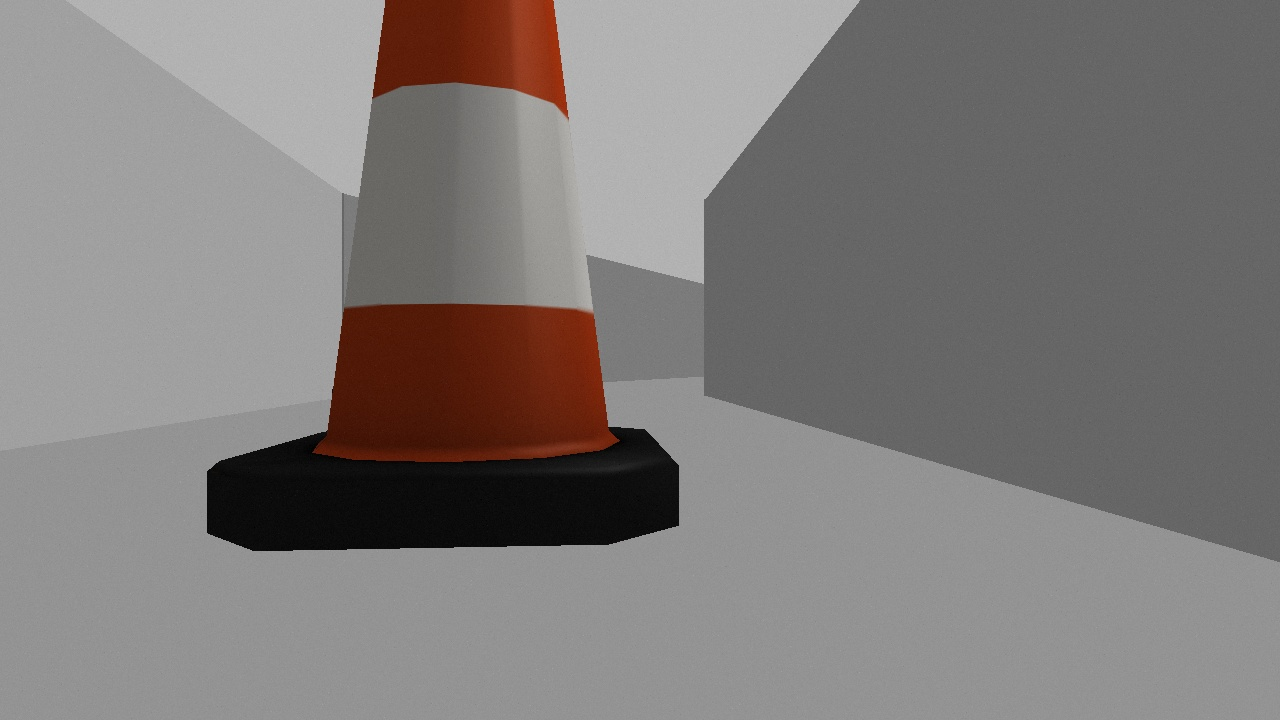barricade: (170, 1, 701, 570)
